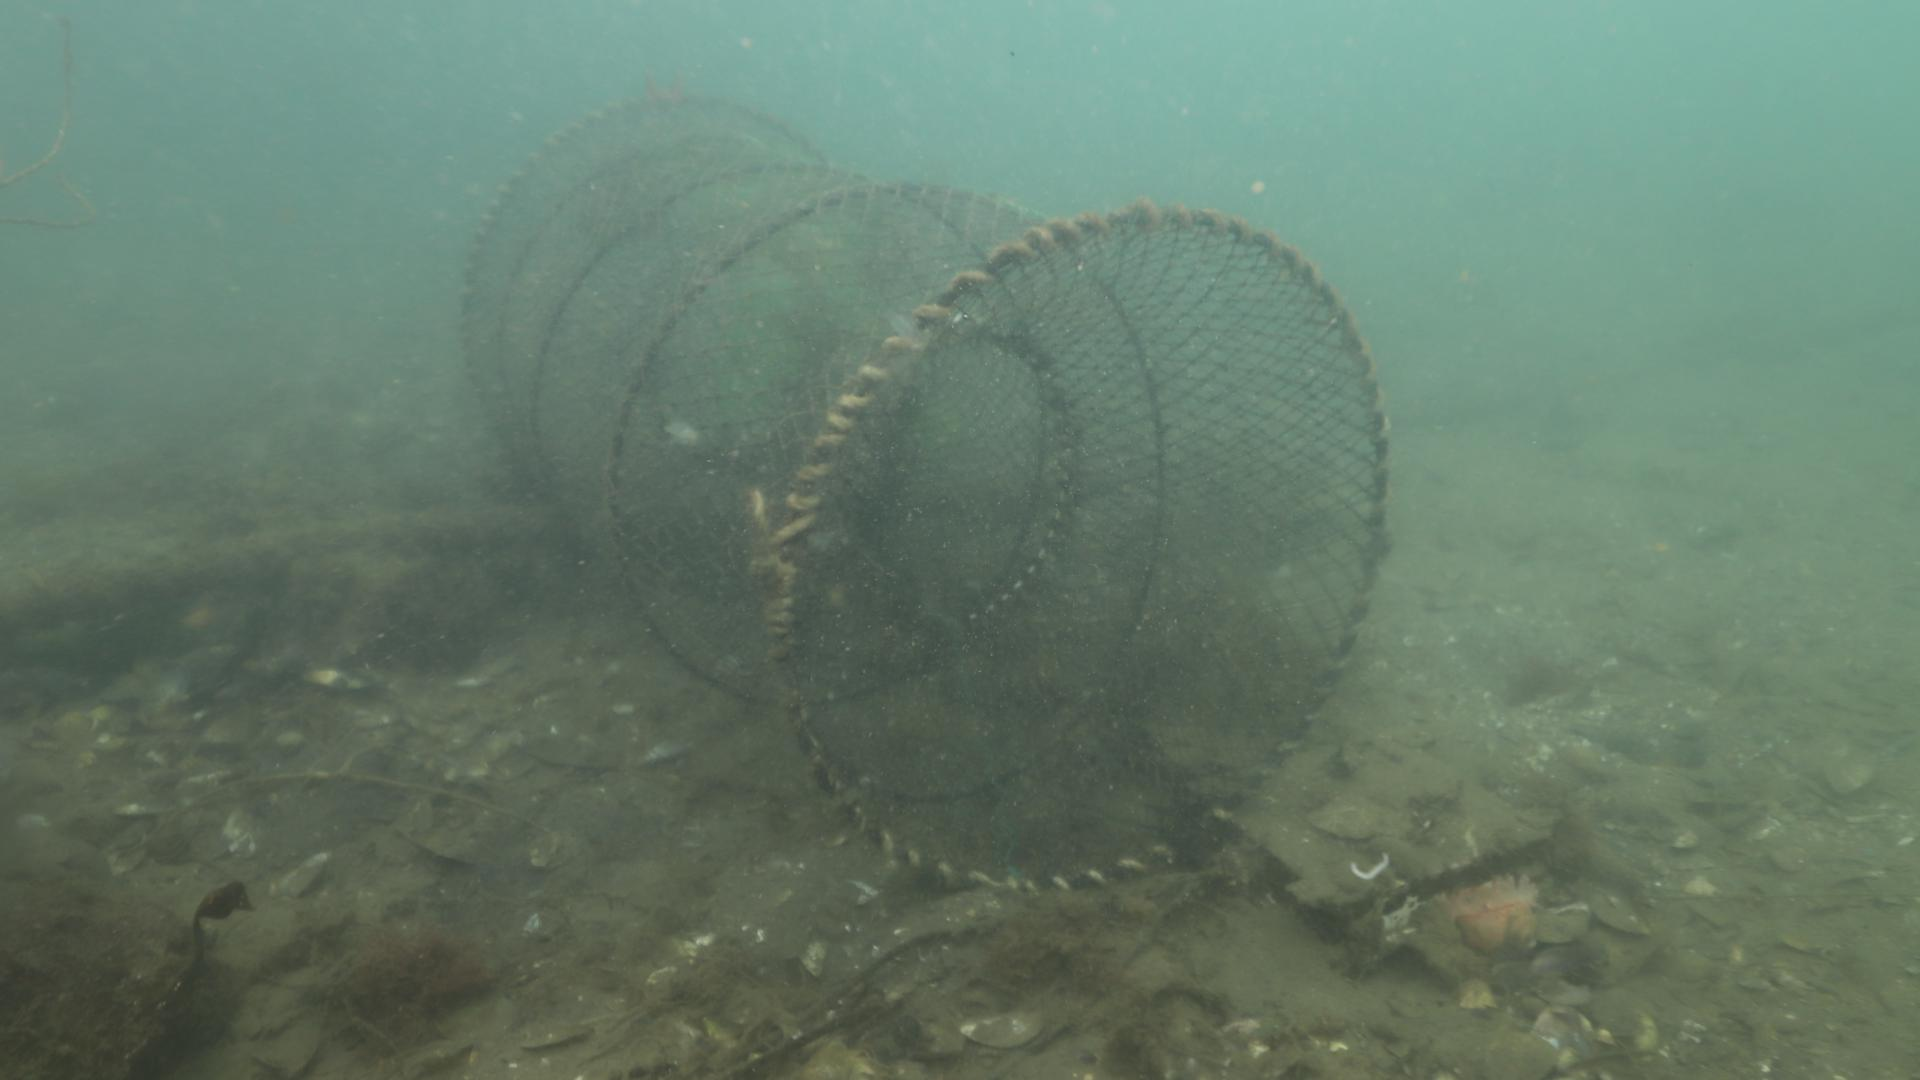rope: (17, 496, 585, 632)
spring fish trap: (460, 90, 1391, 893)
